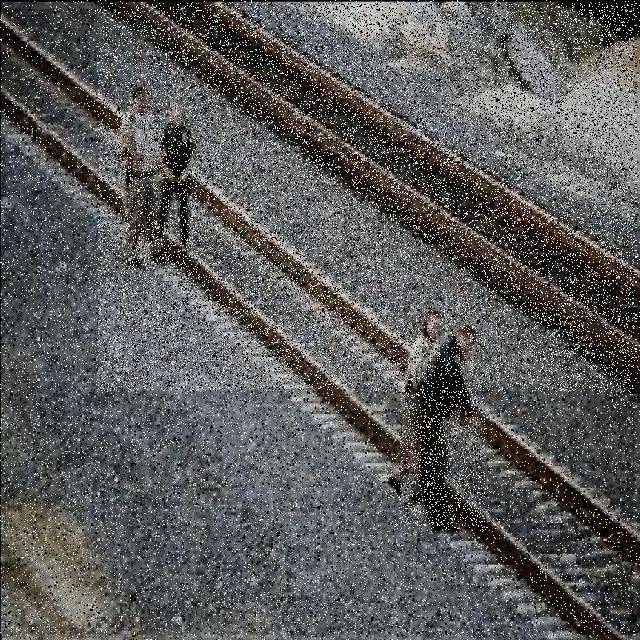rail: (2, 10, 635, 636), (99, 5, 637, 392)
